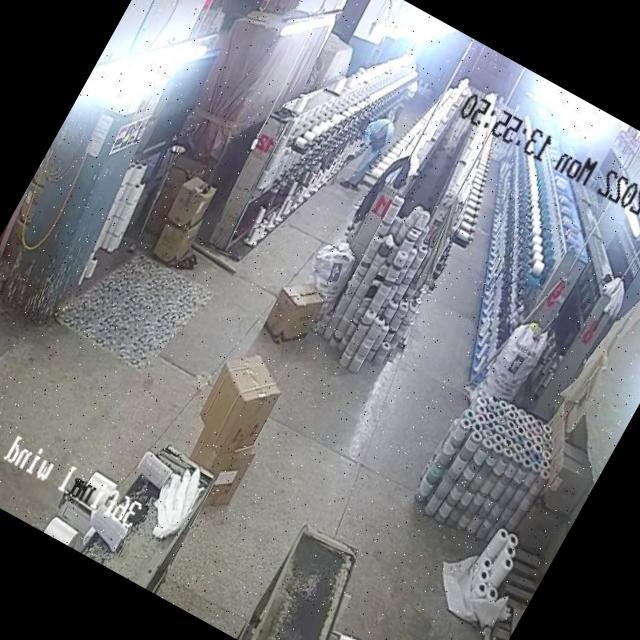person: (334, 110, 398, 190)
